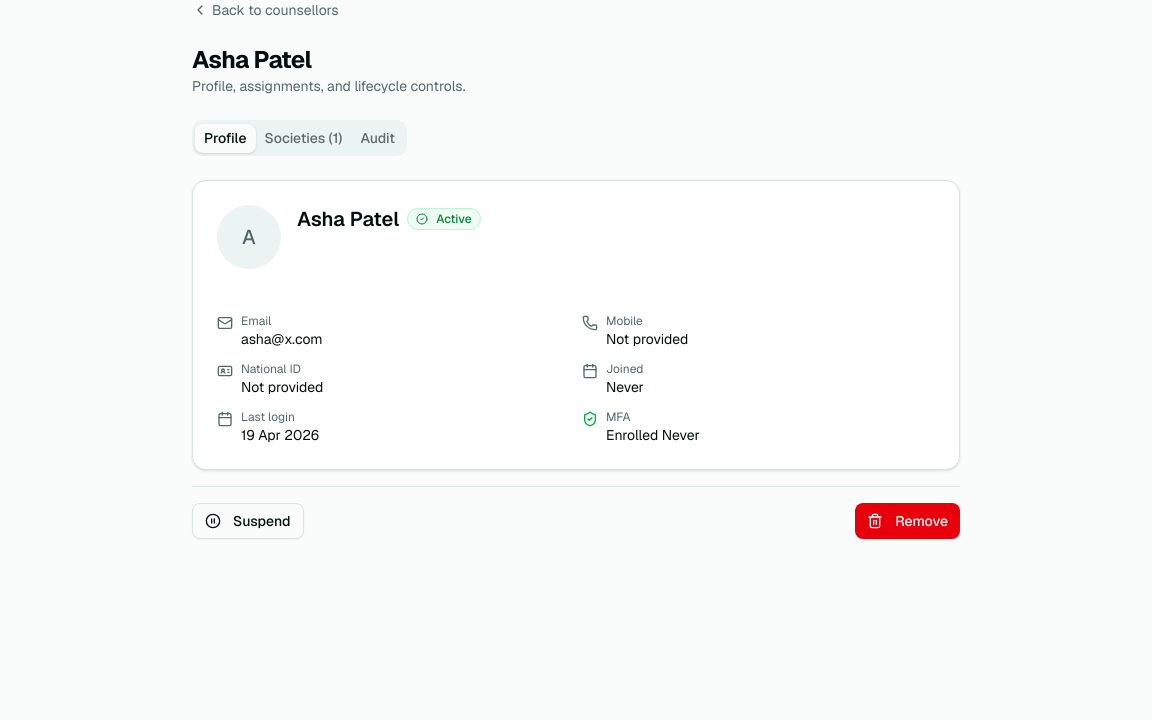
Test: CounsellorDetailPage › opens revoke confirmation dialog when Revoke clicked
This screenshot has width=1152, height=720.
Click the tab "Societies (1)" at (303, 138), box [256,124,351,152]
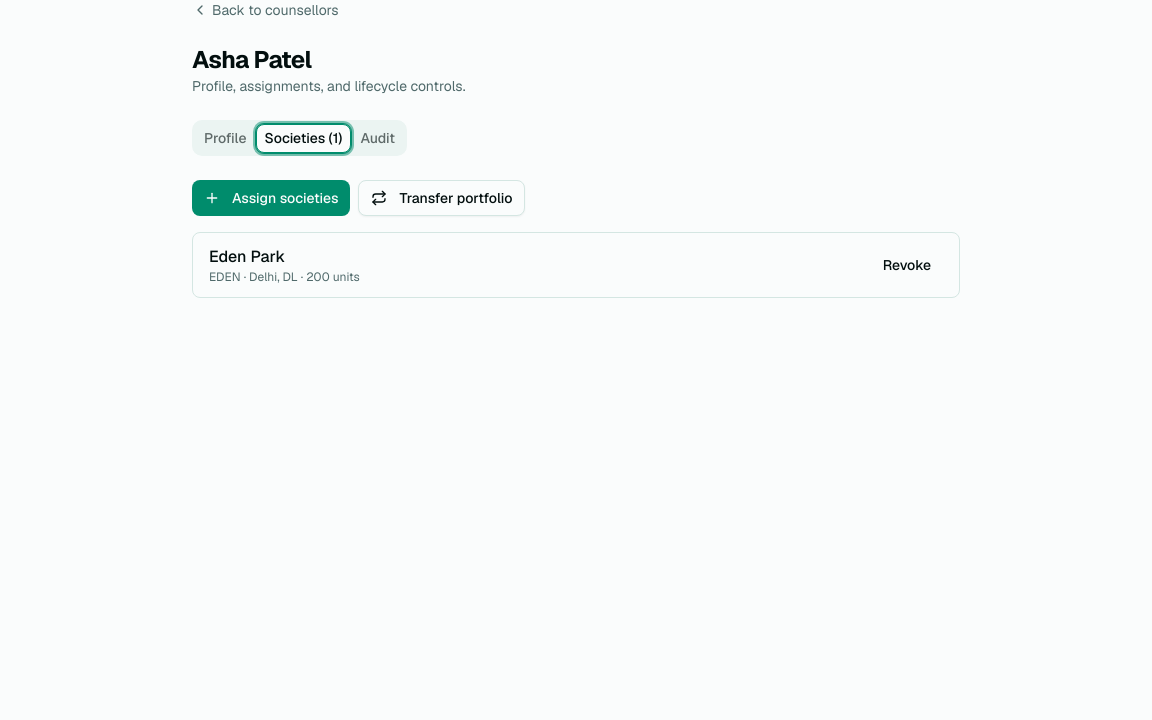
Now the text "Eden Park" is shown, box [209,245,285,269]
Click the button "Revoke" at (907, 265), box [871,249,943,281]
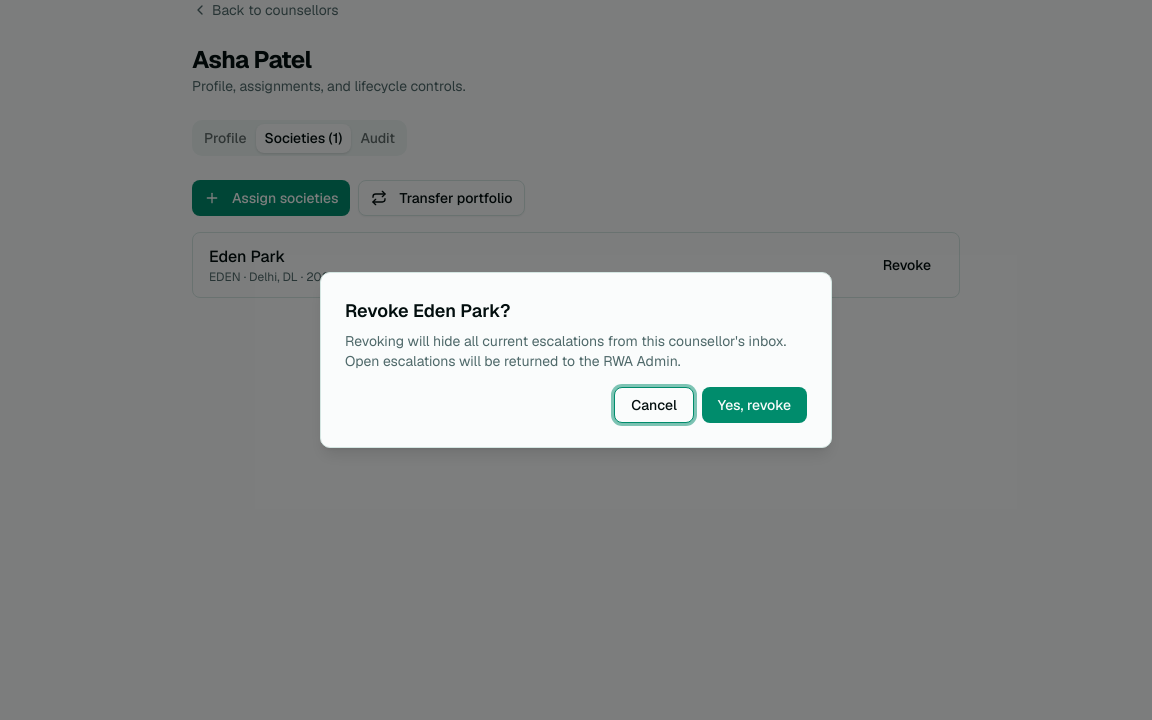
Now the heading "Revoke Eden Park?" is shown, box [345,297,510,325]
